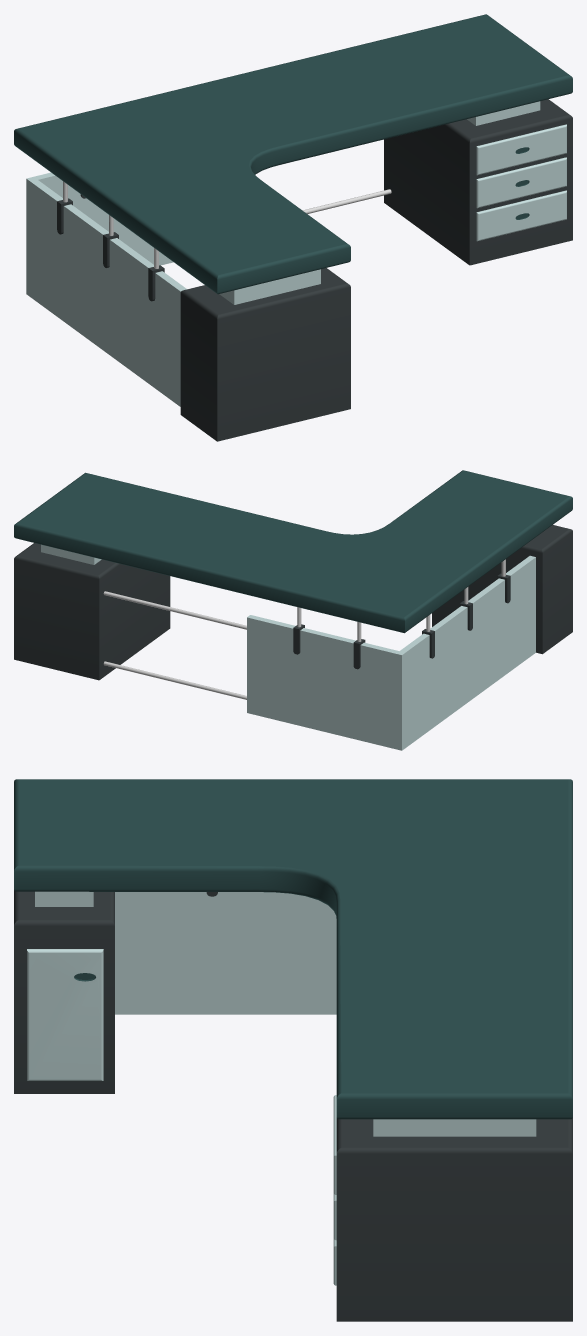
The model's file is shop_furniture.glb.
3 renders of one model, top to bottom at view 1: azimuth 30°, elevation 25°; view 2: azimuth 150°, elevation 25°; view 3: azimuth 270°, elevation 25°, orthographic. The views are drawn at different scales.
Visible parts, largest first — view 1: Desk; view 2: Desk; view 3: Desk.
Part boxes in pixels (x1=…): Desk: x1=14, y1=14, x2=572, y2=441; Desk: x1=14, y1=470, x2=572, y2=750; Desk: x1=14, y1=779, x2=572, y2=1321.
Bounding box in the file's own units: 3.25 × 1.08 × 2.42.
1 material, 1 textured.
